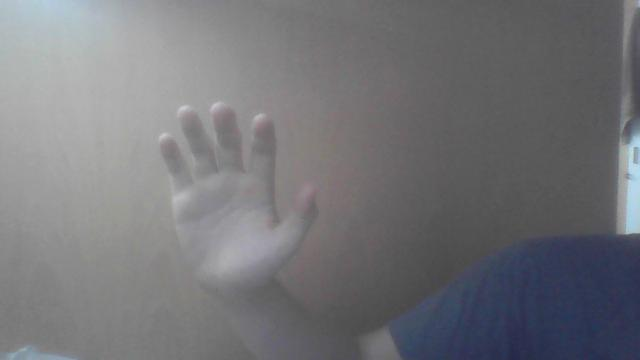Stop: (156, 100, 322, 308)
